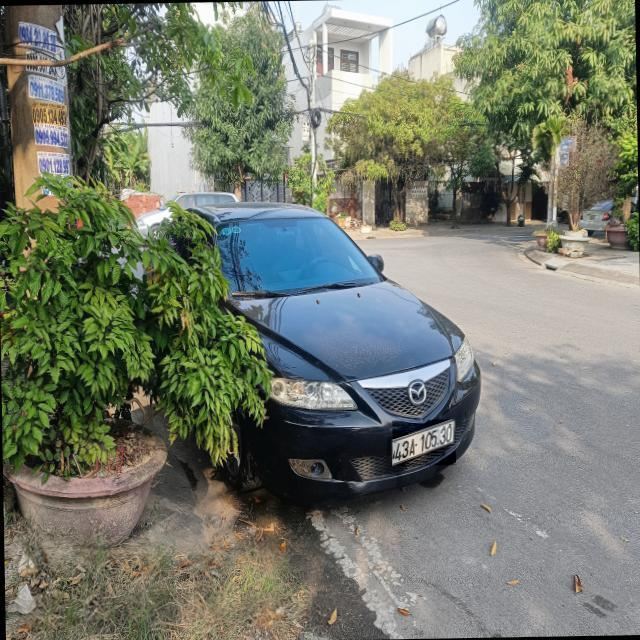car: (207, 201, 486, 509)
plate: (388, 417, 459, 468)
